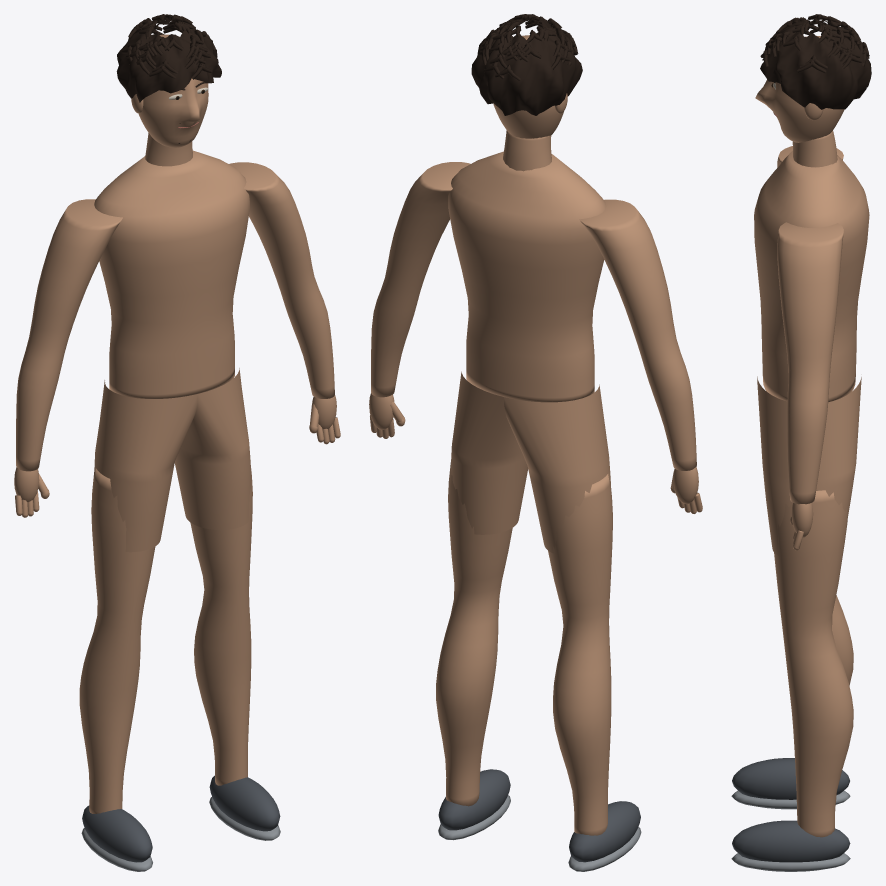
File: toufic_body_lod1.glb
3 renders of one model, left to right at view 1: azimuth 30°, elevation 25°; view 2: azimuth 150°, elevation 25°; view 3: azimuth 270°, elevation 25°, orthographic. The views are drawn at different scales.
Parts seen in each view (by area): view 1: BODY_SKIN, HAIR, SHOES, HEAD, SOLES; view 2: BODY_SKIN, HAIR, SHOES, HEAD, SOLES; view 3: BODY_SKIN, HAIR, SHOES, HEAD, SOLES.
Part boxes in pixels (box(x1,y1,x2,y2)): BODY_SKIN: box(14, 133, 340, 813); HAIR: box(116, 14, 221, 102); SHOES: box(82, 775, 280, 862); HEAD: box(131, 34, 208, 147); SOLES: box(81, 797, 280, 871); BODY_SKIN: box(369, 130, 702, 835); HAIR: box(471, 14, 582, 115); SHOES: box(438, 769, 640, 862); HEAD: box(493, 35, 567, 138); SOLES: box(438, 795, 641, 871); BODY_SKIN: box(754, 131, 869, 837); HAIR: box(760, 14, 871, 109); SHOES: box(732, 758, 850, 862); HEAD: box(755, 35, 844, 142); SOLES: box(731, 790, 850, 871).
Bounding box in the file's own units: 0.762 × 1.83 × 0.2842.
